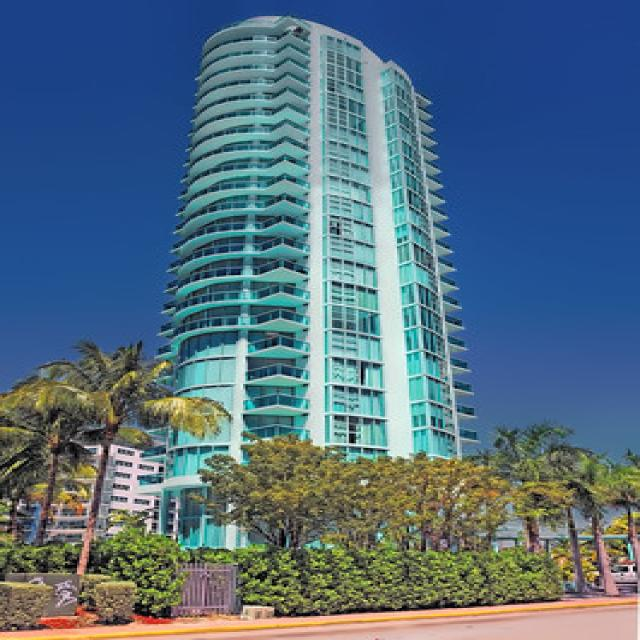building: (142, 8, 488, 571)
